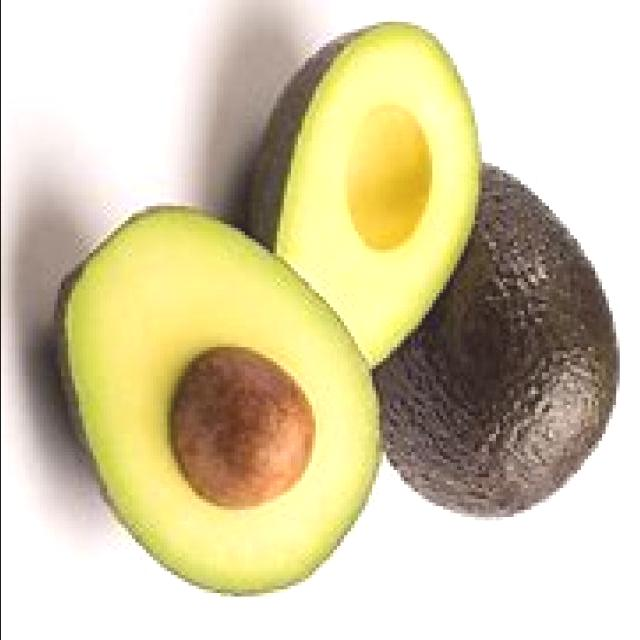avocado: (39, 196, 382, 606), (378, 155, 624, 519), (242, 11, 478, 373)
